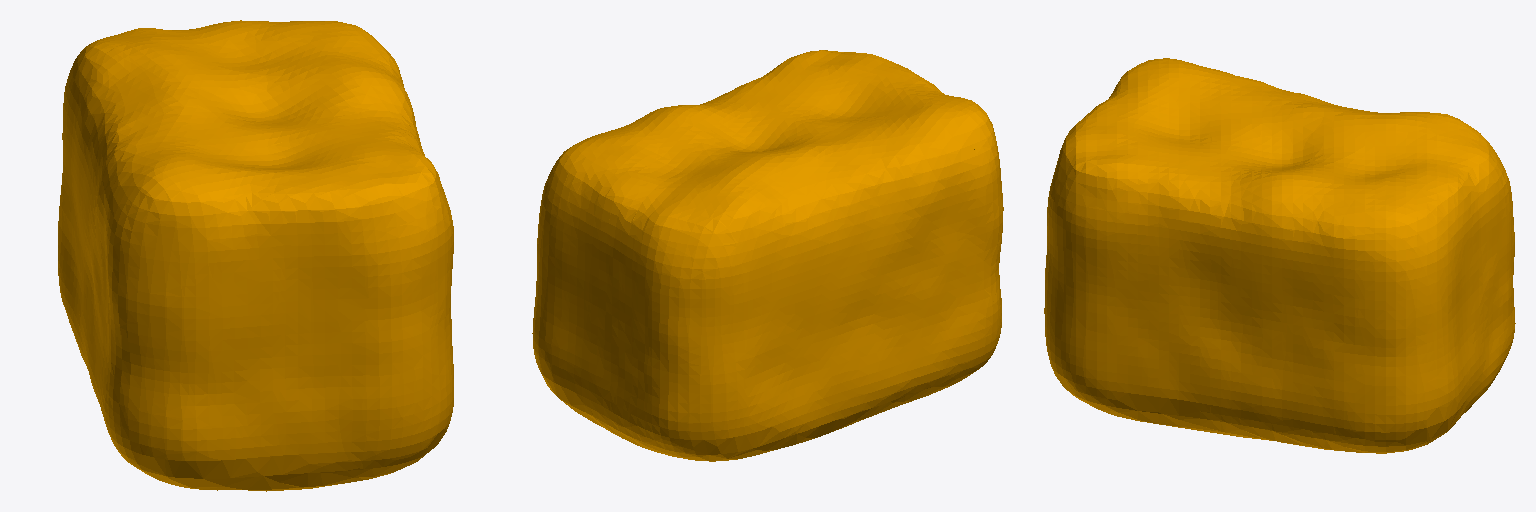
URDF robot description (061_foam_brick):
<?xml version="1.0"?>
<robot name="061_foam_brick">
  <link name="base_link">
    <inertial>
      <origin xyz="-0.010364 -0.005790 0.024580" rpy="0 0 0" />
      <mass value="0.214270" />
      <inertia ixx="0.00014484" ixy="-0.00001933" ixz="0.00000144"
               iyy="0.00010358" iyz="0.00000189" izz="0.00015016" />
    </inertial>
    <visual>
      <geometry><mesh filename="061_foam_brick.stl" scale="1.0 1.0 1.0" /></geometry>
    </visual>
    <collision>
      <geometry><mesh filename="061_foam_brick_col.obj" scale="1.0 1.0 1.0" /></geometry>
    </collision>
    <contact>
      <lateral_friction value="1.0"/>
    </contact>
  </link>
</robot>

--- Facts derived from the render (not from the file) ---
3 views of the same robot in one strip: view 1: azimuth 30°, elevation 25°; view 2: azimuth 150°, elevation 25°; view 3: azimuth 270°, elevation 25° (orthographic).
Robot: 061_foam_brick — 1 links, 0 joints (none); root link base_link; default pose: every joint at zero.
Visible links, largest first — view 1: base_link; view 2: base_link; view 3: base_link.
Boxes of the visible links, <box> form: base_link: <box>58,20,453,491</box>; base_link: <box>532,50,1003,461</box>; base_link: <box>1044,58,1515,453</box>.
Size in the robot's own frame: 0.0734 by 0.0878 by 0.0604 metres.
1 mesh visuals loaded from 1 distinct referenced files (1 binary STL).
